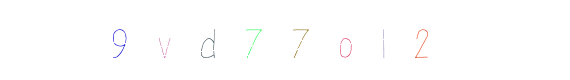2: (326, 0, 406, 80)
7: (213, 0, 293, 80), (222, 0, 302, 80)
9: (79, 0, 159, 80)
D: (168, 0, 248, 80)
L: (271, 0, 351, 80)
O: (245, 0, 325, 80)
V: (161, 0, 241, 80)
